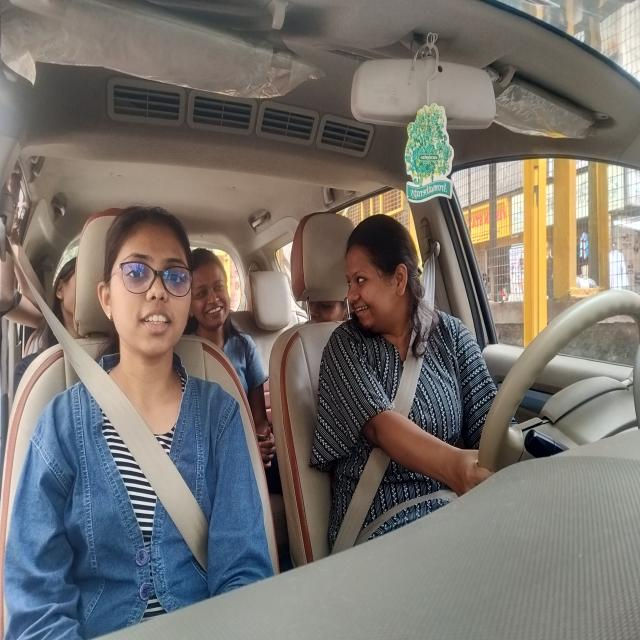LeftRight: (342, 211, 427, 340)
person: (100, 209, 193, 361), (192, 248, 236, 338), (48, 252, 76, 314), (306, 302, 346, 323)
talking: (350, 301, 374, 321)
